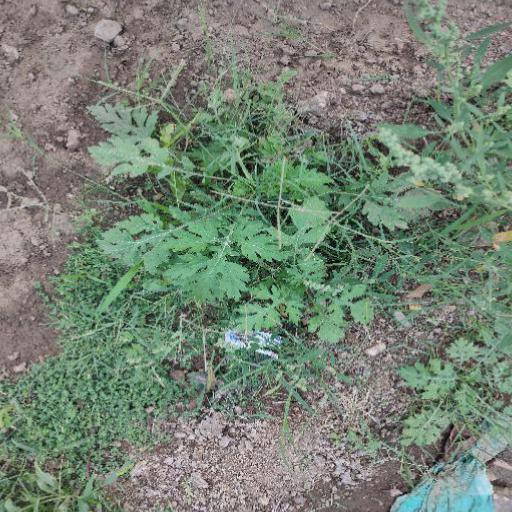weed: (74, 84, 377, 380)
